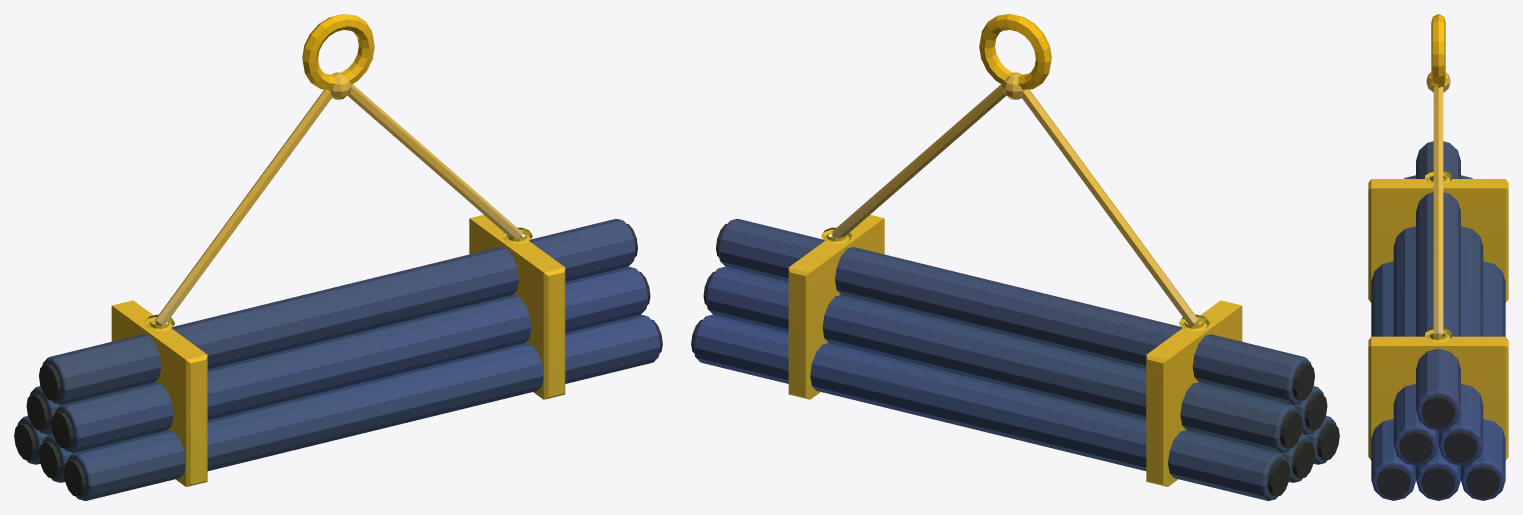
Rendered from Prop_CargoPipes.glb.
3 renders of one model, left to right at view 1: azimuth 30°, elevation 25°; view 2: azimuth 150°, elevation 25°; view 3: azimuth 270°, elevation 25°, orthographic. The views are drawn at different scales.
Visible parts, largest first — view 1: Cargo; view 2: Cargo; view 3: Cargo.
Boxes of the visible parts, x1,y1,x2,y2 form: Cargo: (14, 14, 662, 500); Cargo: (691, 14, 1339, 500); Cargo: (1368, 14, 1508, 500).
Size of the model in its own units: 2.43 by 1.6 by 0.564.
